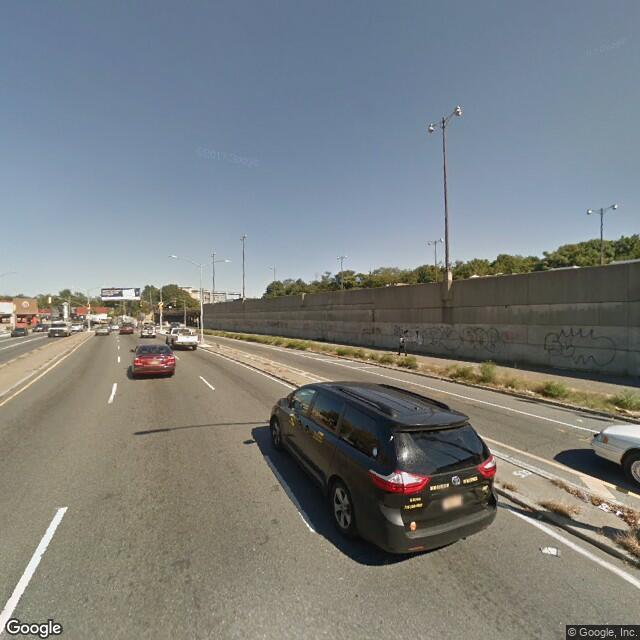litter: (538, 546, 561, 556), (614, 508, 631, 517), (597, 501, 609, 511)
